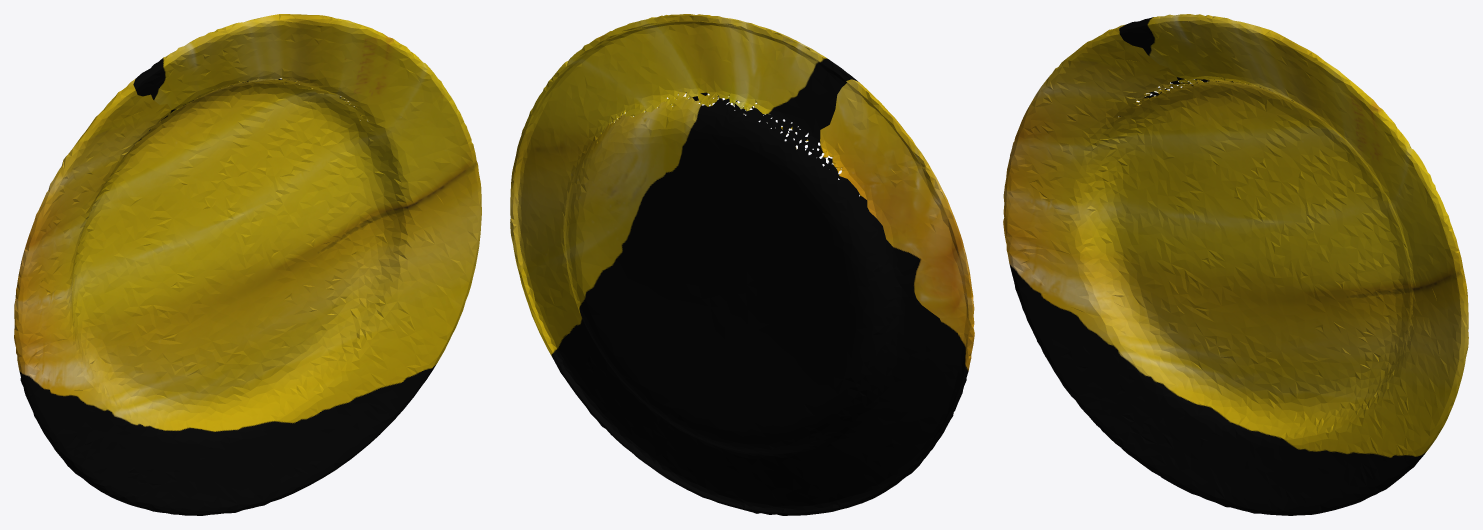
3 renders of one model, left to right at view 1: azimuth 30°, elevation 25°; view 2: azimuth 150°, elevation 25°; view 3: azimuth 330°, elevation 25°, orthographic.
Parts seen in each view (by area): view 1: node; view 2: node; view 3: node.
Part boxes in pixels (bbox=[...]): node: bbox=[14, 14, 481, 515]; node: bbox=[510, 14, 974, 515]; node: bbox=[1003, 14, 1468, 515].
Bounding box in the file's own units: 0.2602 × 0.2611 × 0.0267.
